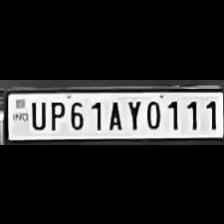0: (142, 97, 162, 129)
1: (200, 96, 220, 130), (164, 97, 182, 129), (182, 97, 200, 129), (88, 97, 104, 129)
6: (66, 97, 86, 129)
A: (102, 97, 124, 129)
P: (46, 98, 64, 130)
U: (28, 98, 46, 130)
Y: (124, 97, 142, 129)
